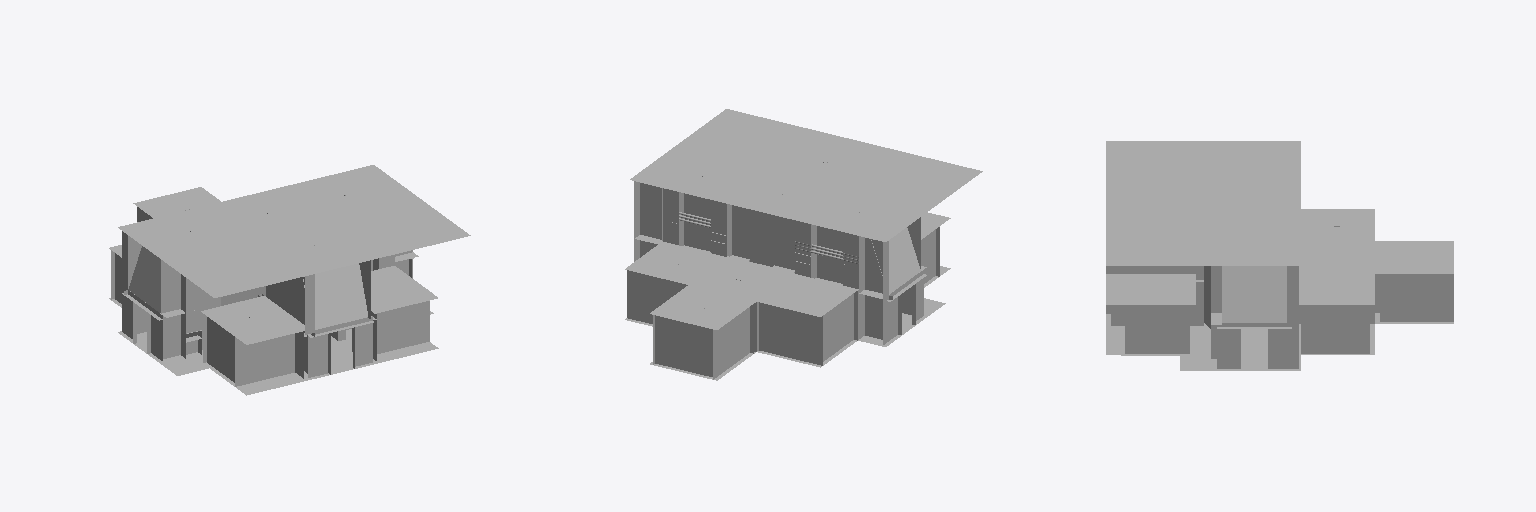
The model's file is LC_cont3_scps.obj.
The picture shows the model from 3 angles: view 1: azimuth 30°, elevation 25°; view 2: azimuth 150°, elevation 25°; view 3: azimuth 270°, elevation 25°; orthographic projection.
Visible parts, largest first — view 1: LC_cont3_scps; view 2: LC_cont3_scps; view 3: LC_cont3_scps.
Part boxes in pixels (x1,y1,x2,y2): LC_cont3_scps: (109, 165, 470, 395); LC_cont3_scps: (625, 109, 982, 380); LC_cont3_scps: (1106, 141, 1453, 370).
Size of the model in its own units: 20.48 by 8.01 by 24.